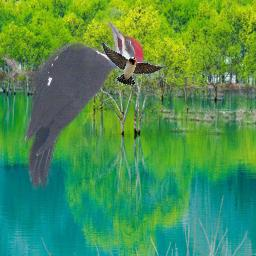Swallow: (101, 41, 165, 85)
Woodpecker: (0, 20, 147, 190)
